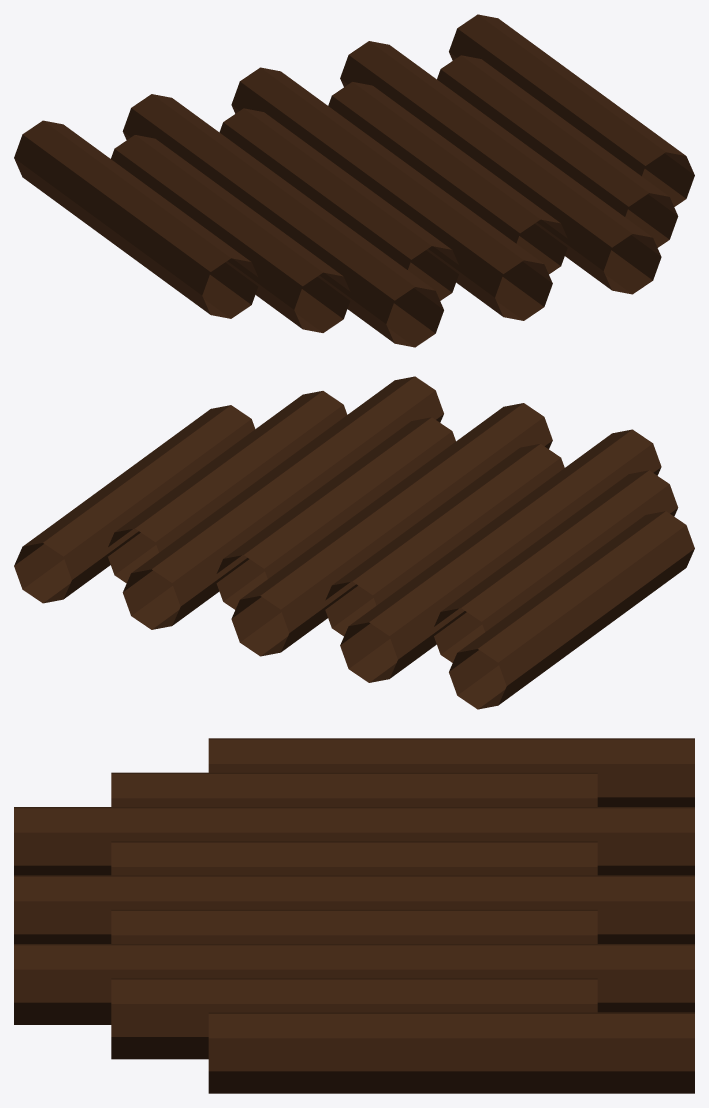
File: SM_CommonWoodPile.obj
3 renders of one model, top to bottom at view 1: azimuth 30°, elevation 25°; view 2: azimuth 150°, elevation 25°; view 3: azimuth 270°, elevation 25°, orthographic. The views are drawn at different scales.
Visible parts, largest first — view 1: SM_CommonWoodPile; view 2: SM_CommonWoodPile; view 3: SM_CommonWoodPile.
Boxes of the visible parts, x1,y1,x2,y2 form: SM_CommonWoodPile: (14,14,694,347); SM_CommonWoodPile: (14,376,694,709); SM_CommonWoodPile: (14,738,694,1093).
Bounding box in the file's own units: 272 × 32 × 252.
